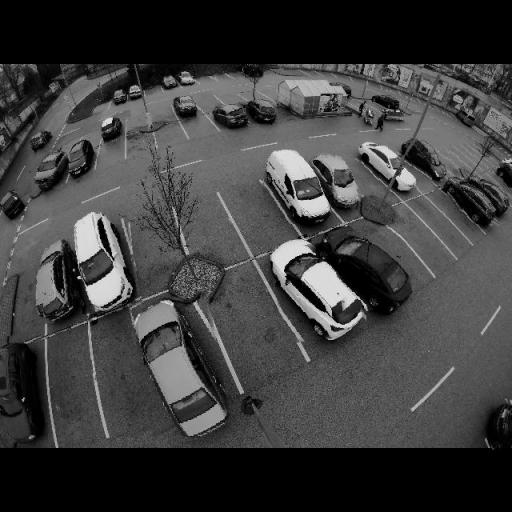busy: (135, 294, 227, 444), (274, 240, 366, 342), (65, 206, 138, 312), (332, 226, 412, 312), (261, 150, 334, 226), (0, 334, 46, 442), (29, 240, 80, 323), (314, 154, 368, 209), (446, 178, 504, 225), (361, 146, 415, 192), (404, 140, 449, 180), (31, 147, 68, 189), (486, 399, 512, 449), (64, 139, 96, 178), (244, 96, 280, 125), (213, 103, 251, 129), (97, 113, 124, 140), (171, 95, 200, 118), (373, 91, 403, 112), (28, 129, 54, 151), (497, 162, 512, 191), (112, 88, 128, 106), (126, 84, 144, 100), (176, 71, 195, 86), (161, 75, 178, 90)
free: (220, 292, 274, 340), (96, 340, 144, 388), (52, 360, 94, 408), (132, 228, 178, 268), (196, 220, 236, 254), (398, 152, 432, 190), (14, 284, 44, 321), (346, 162, 380, 190), (236, 201, 274, 226), (376, 236, 408, 263), (407, 226, 433, 248), (97, 144, 124, 164), (128, 134, 155, 154), (442, 198, 464, 220), (188, 118, 212, 136), (126, 113, 151, 130), (161, 129, 185, 145), (241, 88, 260, 106), (427, 213, 448, 229), (198, 96, 218, 110), (154, 108, 174, 121), (220, 92, 238, 106), (438, 156, 455, 168), (452, 152, 466, 165), (214, 74, 230, 84), (230, 72, 245, 82), (200, 76, 213, 86), (467, 150, 480, 160), (148, 86, 160, 95)
